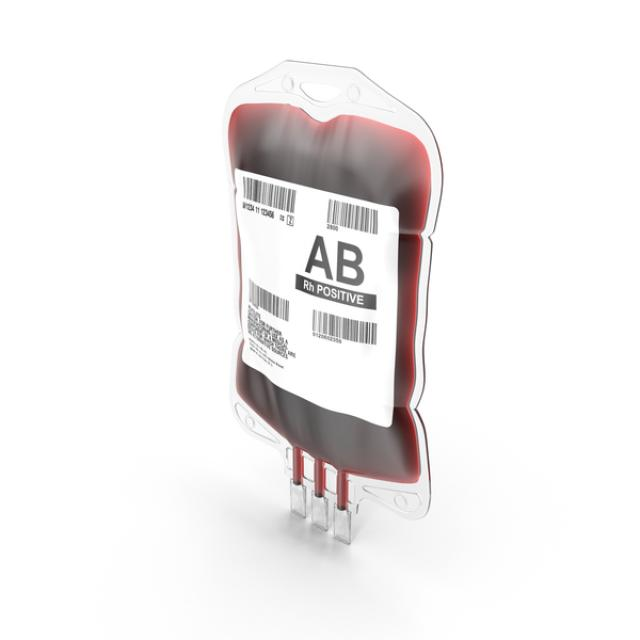B3: (200, 57, 462, 568)
